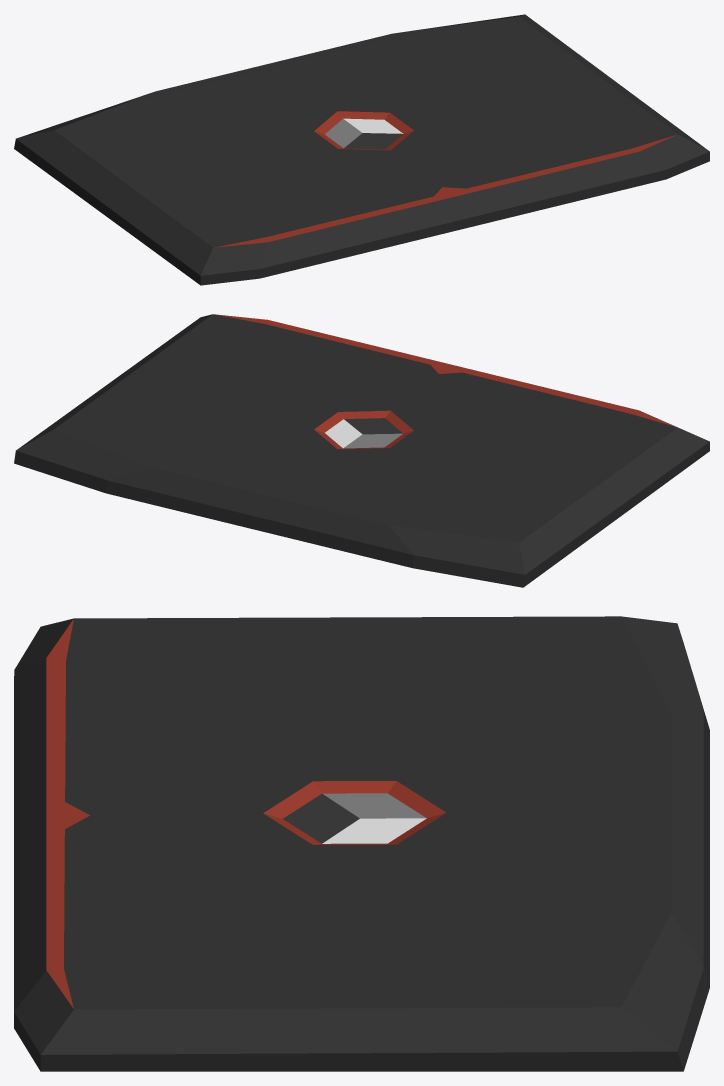
File: SM_Prop_Computer_Laptop_01_Screen_01.obj
3 views of the same model, one above another, from view 1: azimuth 30°, elevation 25°; view 2: azimuth 150°, elevation 25°; view 3: azimuth 270°, elevation 25° (orthographic). The views are drawn at different scales.
Visible parts, largest first — view 1: SM_Prop_Computer_Laptop_01_Screen_01_0; view 2: SM_Prop_Computer_Laptop_01_Screen_01_0; view 3: SM_Prop_Computer_Laptop_01_Screen_01_0.
Boxes of the visible parts, x1=… form: SM_Prop_Computer_Laptop_01_Screen_01_0: x1=14, y1=14, x2=709, y2=285; SM_Prop_Computer_Laptop_01_Screen_01_0: x1=14, y1=314, x2=709, y2=587; SM_Prop_Computer_Laptop_01_Screen_01_0: x1=14, y1=616, x2=709, y2=1071.
Bounding box in the file's own units: 0.5193 × 0.0257 × 0.3567.
Materials: 1 (1 with a texture image).
